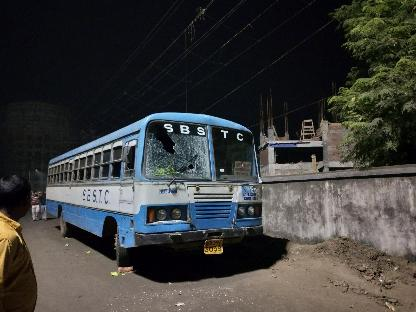bus: (46, 112, 262, 268)
